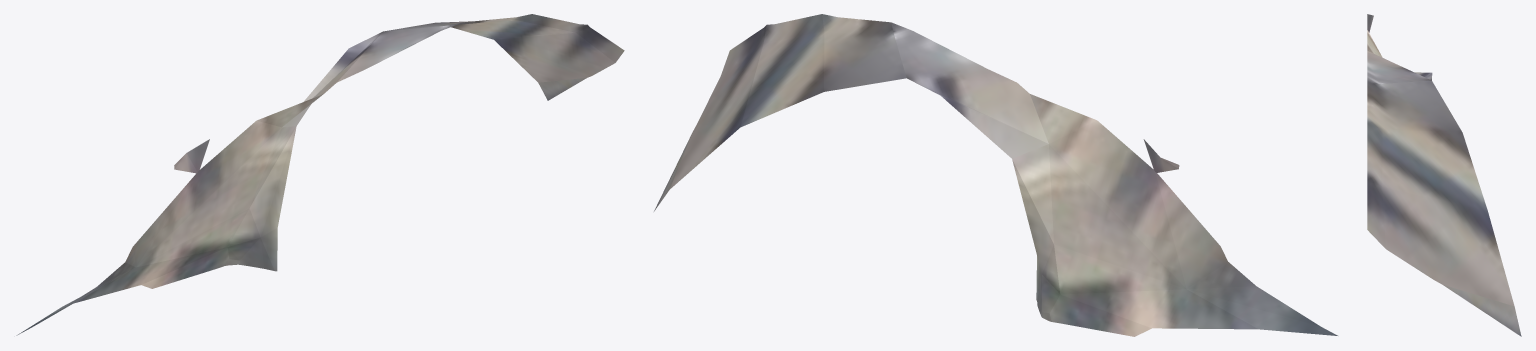
Rendered from Tile__003__007_L21_0002300.glb.
3 views of the same model, side by side, from view 1: azimuth 30°, elevation 25°; view 2: azimuth 150°, elevation 25°; view 3: azimuth 270°, elevation 25° (orthographic).
Parts seen in each view (by area): view 1: root; view 2: root; view 3: root.
Part boxes in pixels (<box>): root: <box>16,14,624,335</box>; root: <box>654,14,1337,336</box>; root: <box>1367,14,1521,336</box>.
Size of the model in its own units: 23.73 by 8.3 by 5.17.
1 material, 1 textured.
